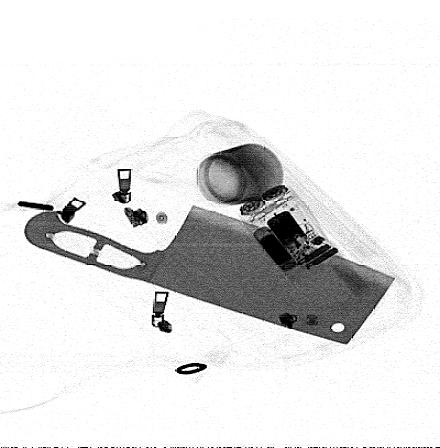Knife: (23, 204, 396, 345)
